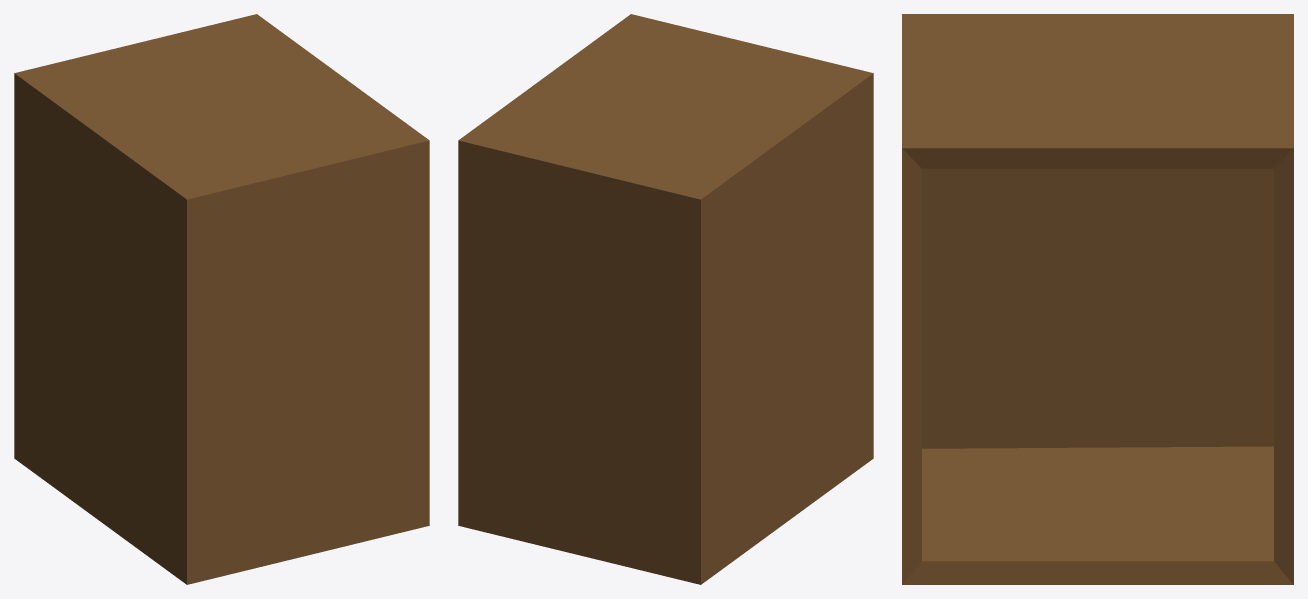
File: Mesh_Aufzug_main.fbx
The picture shows the model from 3 angles, left to right: view 1: azimuth 30°, elevation 25°; view 2: azimuth 150°, elevation 25°; view 3: azimuth 270°, elevation 25°; orthographic projection. The views are drawn at different scales.
Parts seen in each view (by area): view 1: Aufzug; view 2: Aufzug; view 3: Aufzug.
Part boxes in pixels (bbox=[...]): Aufzug: bbox=[14, 14, 429, 584]; Aufzug: bbox=[458, 14, 873, 584]; Aufzug: bbox=[902, 14, 1293, 584].
Bounding box in the file's own units: 1.47 × 2.23 × 1.81.
